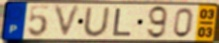0: (172, 6, 196, 39)
5: (27, 4, 53, 39)
9: (146, 4, 170, 40)
L: (111, 7, 134, 37)
U: (82, 6, 112, 38)
V: (52, 4, 83, 40)
